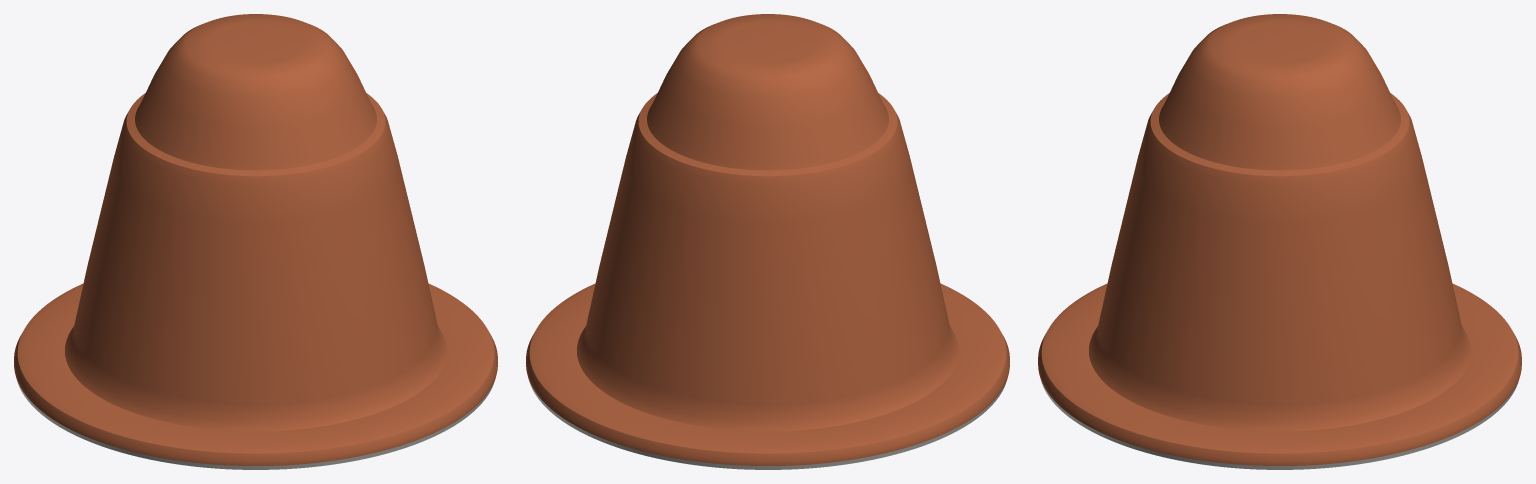
File: coffeepod.glb
3 views of the same model, side by side, from view 1: azimuth 30°, elevation 25°; view 2: azimuth 150°, elevation 25°; view 3: azimuth 270°, elevation 25° (orthographic).
Parts seen in each view (by area): view 1: coffeepod; view 2: coffeepod; view 3: coffeepod.
Part boxes in pixels (box(x1,y1,x2,y2)): coffeepod: box(14, 14, 497, 469); coffeepod: box(526, 14, 1009, 469); coffeepod: box(1038, 14, 1521, 469).
Size of the model in its own units: 0.04 by 0.03 by 0.04.
